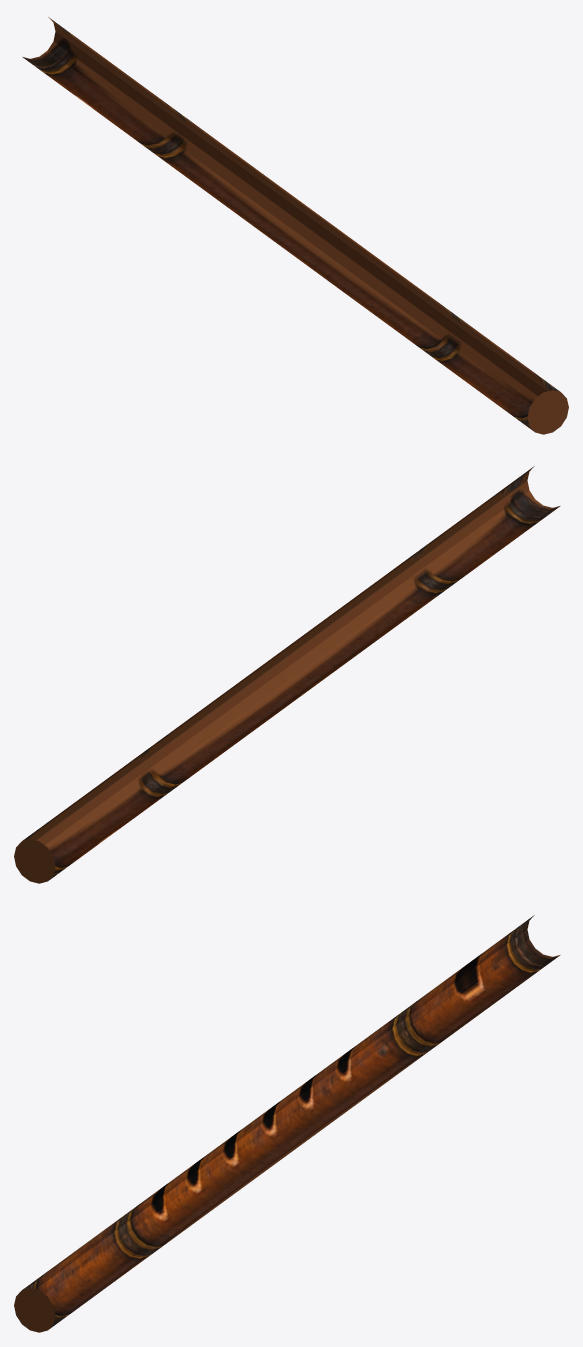
The model's file is Instrument_Flute.glb.
3 views of the same model, one above another, from view 1: azimuth 30°, elevation 25°; view 2: azimuth 150°, elevation 25°; view 3: azimuth 330°, elevation 25° (orthographic).
Parts seen in each view (by area): view 1: model_Instrument_Flute; view 2: model_Instrument_Flute; view 3: model_Instrument_Flute.
Boxes of the visible parts, x1,y1,x2,y2 form: model_Instrument_Flute: [22, 17, 568, 434]; model_Instrument_Flute: [14, 466, 560, 883]; model_Instrument_Flute: [14, 915, 560, 1332].
Size of the model in its own units: 0.028 by 0.0273 by 0.6.
1 material, 1 textured.
